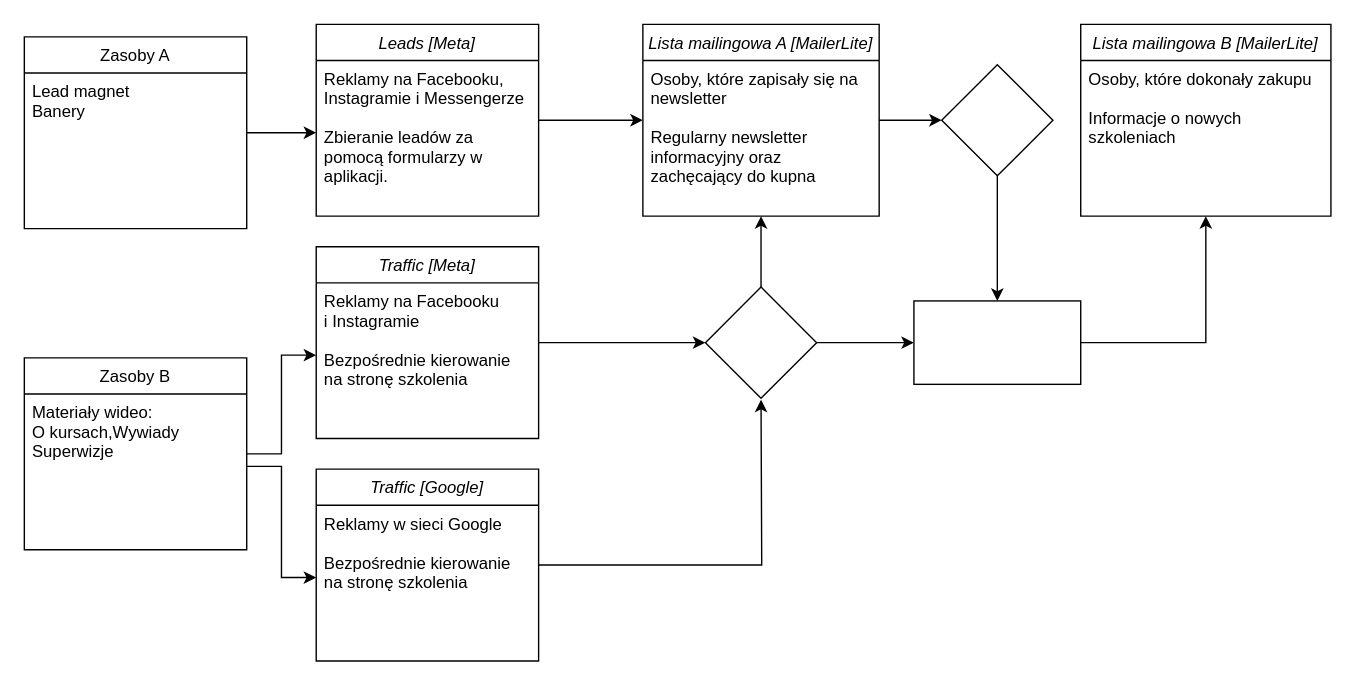
This 1355x685 diagram has some shape labels left out. Here are the shapes that lost their labels. From the top down, the centre of each, then its label:
the point at 996,119: Newsletter
the point at 760,342: Landing Page
the point at 997,342: Zakup
